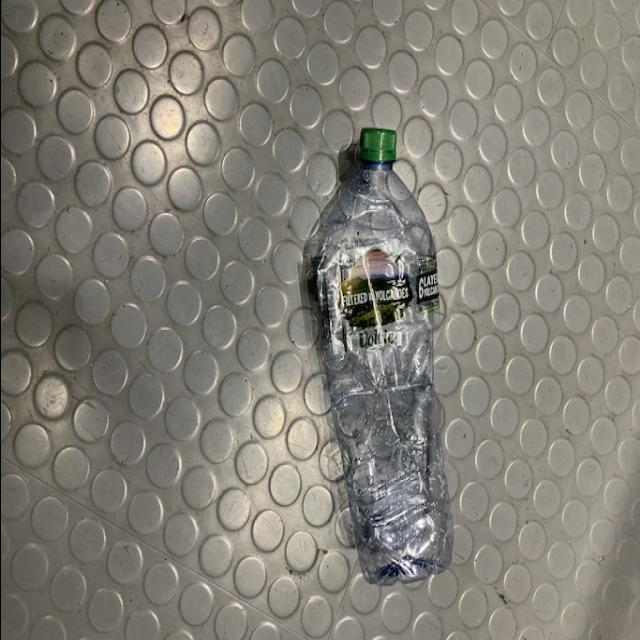PET: (313, 125, 459, 589)
